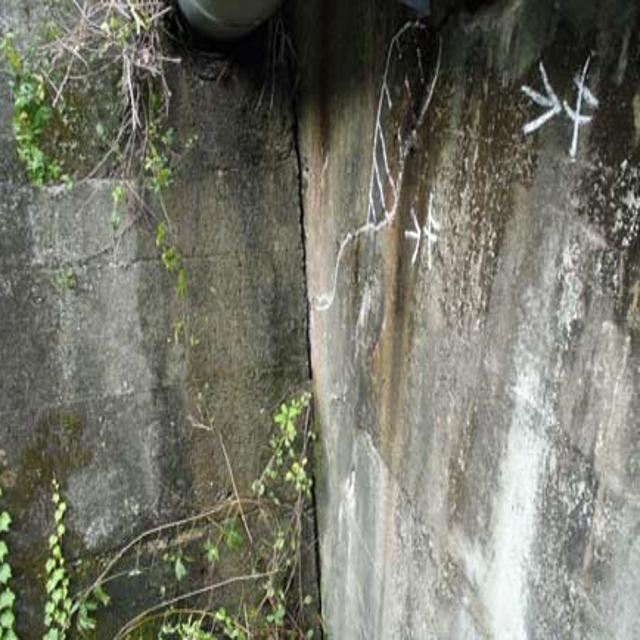freelime: (436, 13, 550, 93)
